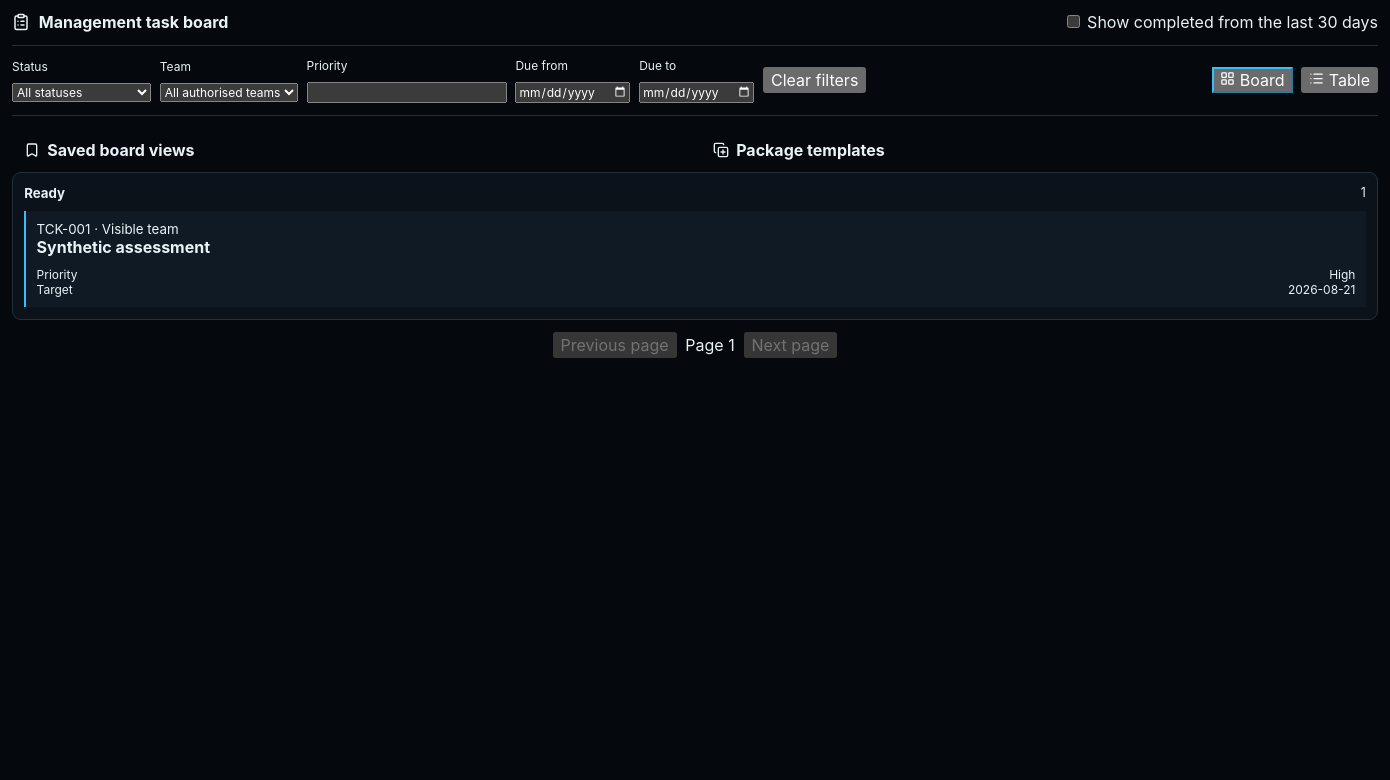
it: applying a saved view replaces every filter and resets paging
Note: Saved views load only once the disclosure is opened.
Click the heading "Saved board views": click(109, 150) [24,140,194,160]
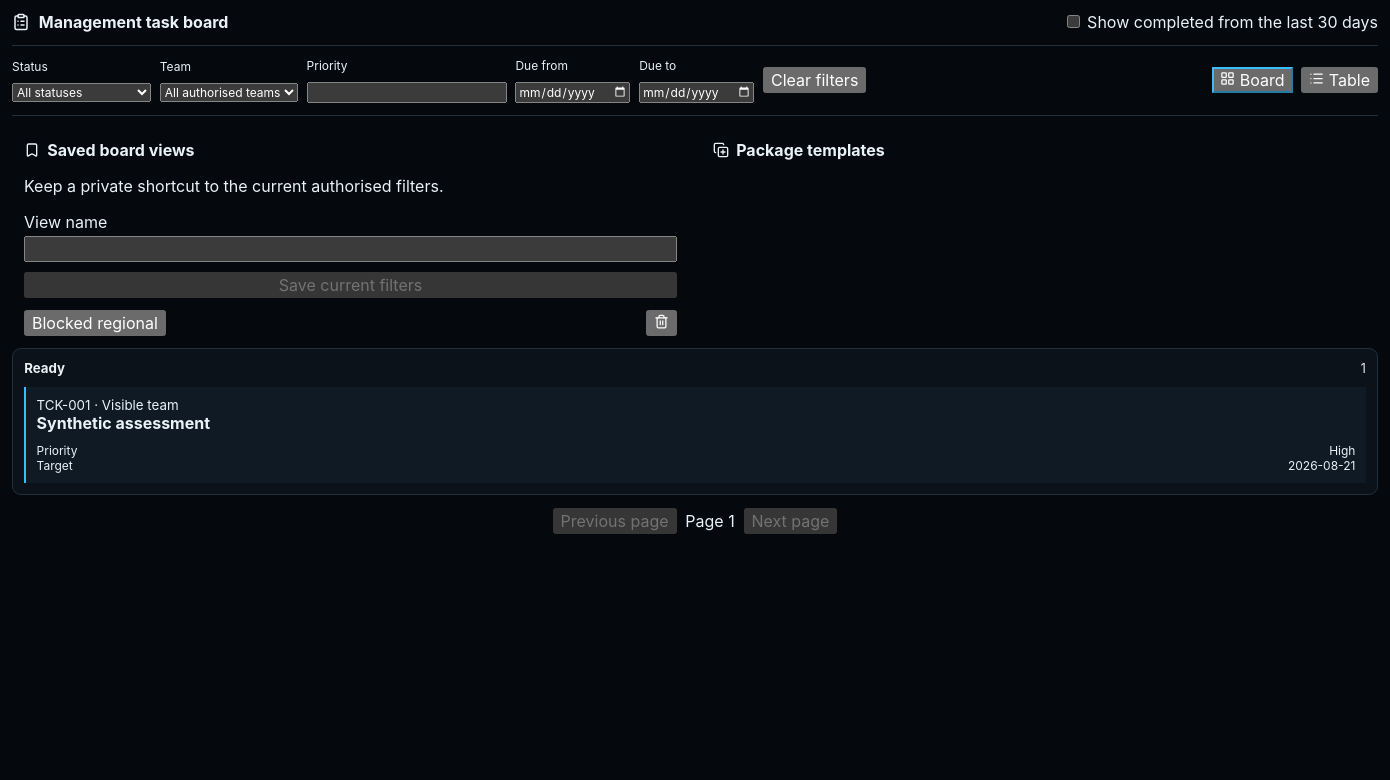
Click the button "Blocked regional": click(95, 323) [24,310,166,336]
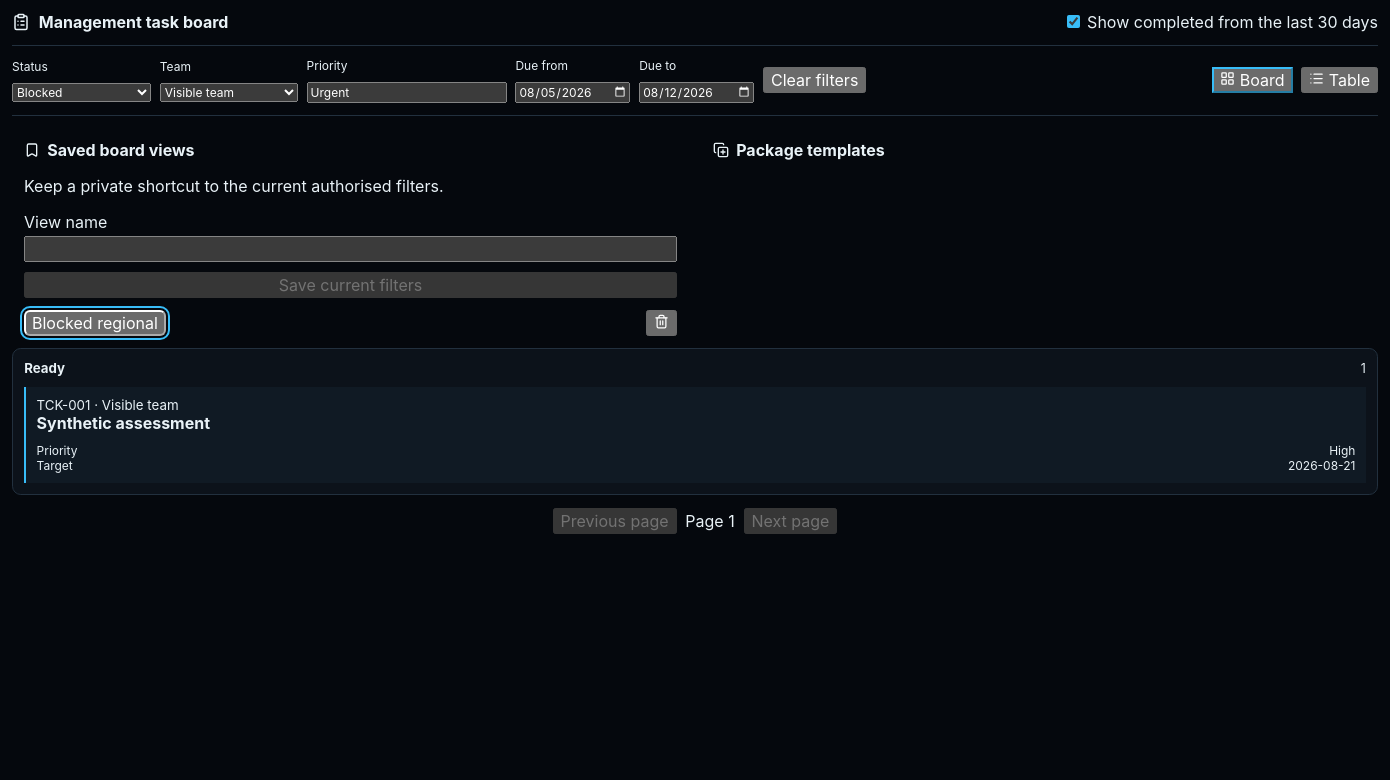
Result: the dropdown labelled "Status" shows "Blocked" at [12,83,151,102]
Result: the field labelled "Priority" holds "Urgent" at [307,82,507,103]
Result: the date field labelled "Due from" holds "2026-08-05" at [515,82,630,103]
